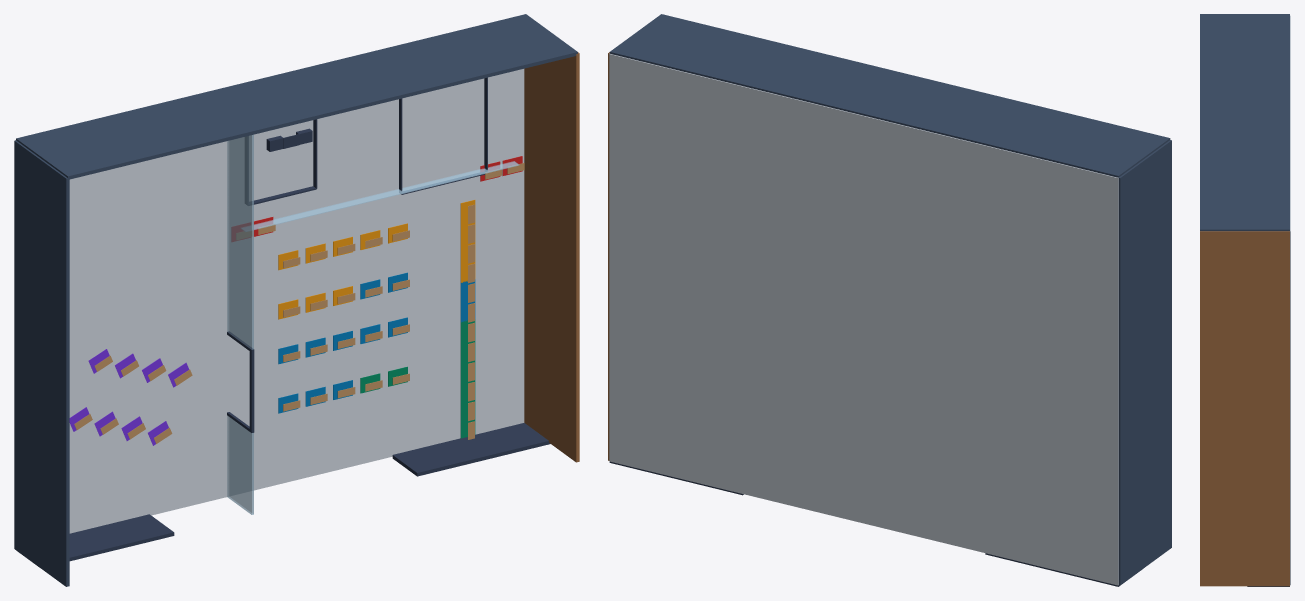
Rendered from dpsi_exhibition.obj.
The picture shows the model from 3 angles, left to right: view 1: azimuth 30°, elevation 25°; view 2: azimuth 150°, elevation 25°; view 3: azimuth 270°, elevation 25°; orthographic projection. The views are drawn at different scales.
Parts seen in each view (by area): view 1: DPSI_Exhibition_World; view 2: DPSI_Exhibition_World; view 3: DPSI_Exhibition_World.
Part boxes in pixels (x1,y1,x2,y2): DPSI_Exhibition_World: [14, 14, 579, 586]; DPSI_Exhibition_World: [608, 14, 1171, 586]; DPSI_Exhibition_World: [1200, 14, 1290, 586].
Size of the model in its own units: 60 by 46 by 10.6.
